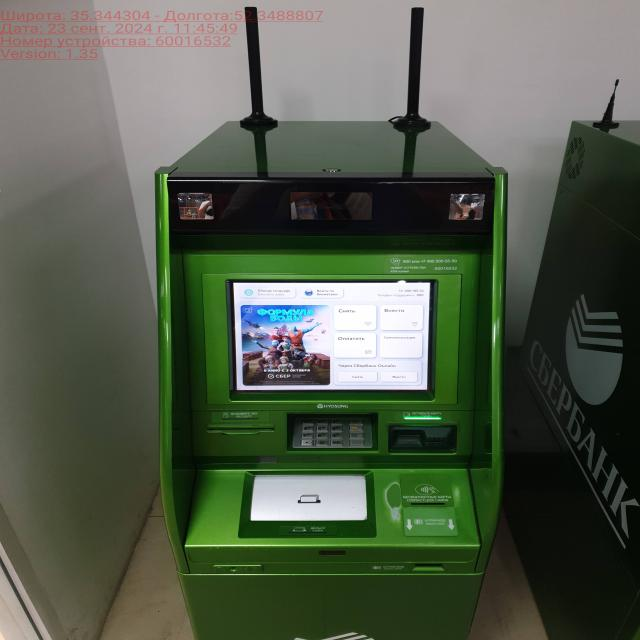bank: (152, 116, 498, 640), (514, 106, 640, 640)
